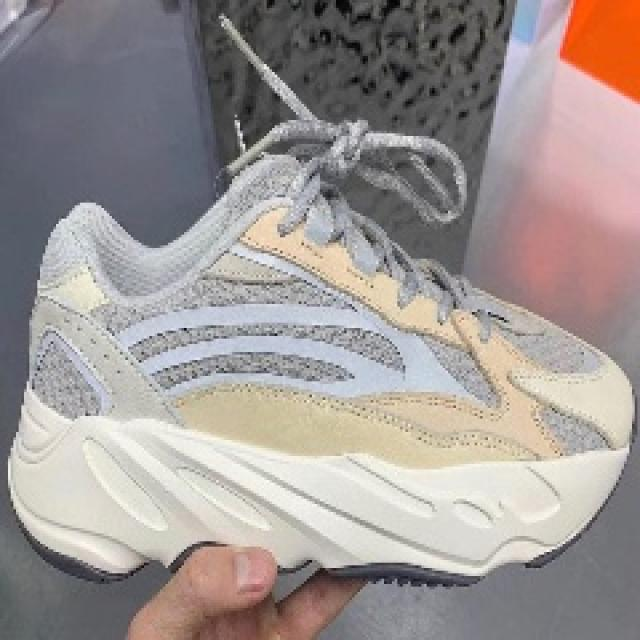shoes: (9, 168, 636, 586)
